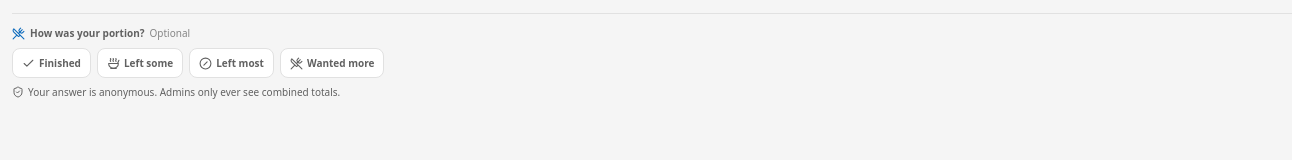
Test: offline behaviour › keeps the answer on the device when the server is unreachable
Click the button "Left some": (140, 63) [97,48,183,78]
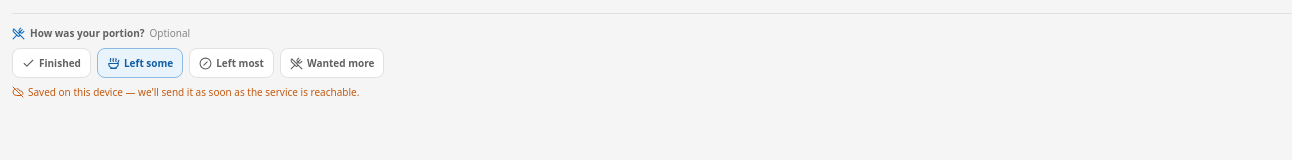
Result: the text "Saved on this device" is shown at [28,85,359,99]
